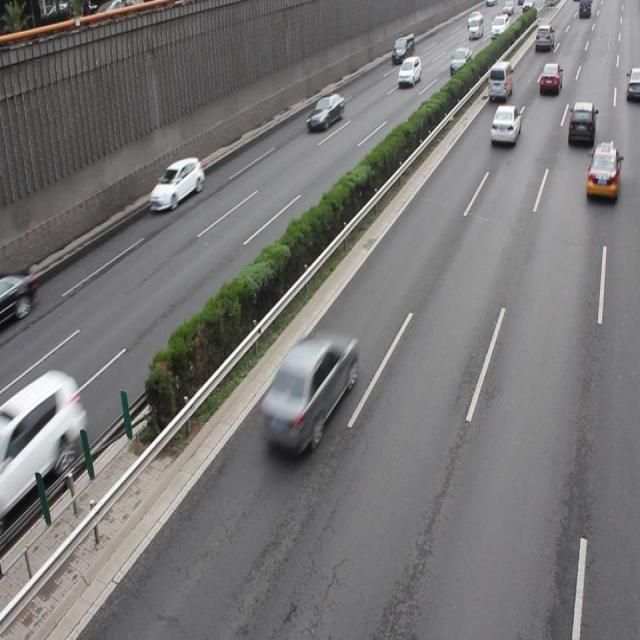car: (257, 332, 356, 453), (1, 369, 84, 504), (148, 155, 205, 212), (584, 141, 618, 202), (1, 267, 36, 321), (306, 92, 345, 132), (488, 103, 520, 146), (566, 101, 595, 148)
